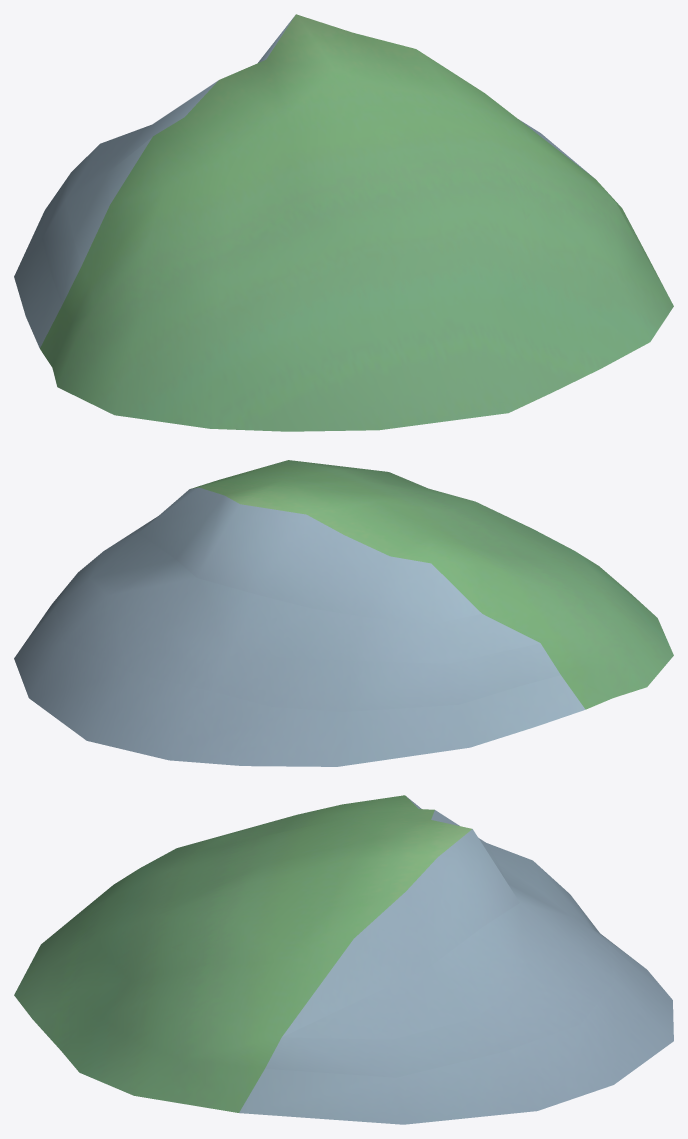
Rendered from GrassMound.fbx.
The picture shows the model from 3 angles, top to bottom: view 1: azimuth 30°, elevation 25°; view 2: azimuth 150°, elevation 25°; view 3: azimuth 270°, elevation 25°; orthographic projection. The views are drawn at different scales.
Parts seen in each view (by area): view 1: GrassMound; view 2: GrassMound; view 3: GrassMound.
Boxes of the visible parts, x1=… form: GrassMound: x1=14, y1=14, x2=673, y2=431; GrassMound: x1=14, y1=460, x2=673, y2=766; GrassMound: x1=14, y1=795, x2=673, y2=1124.
Size of the model in its own units: 34.7 by 11.37 by 36.29.
Materials: 1 (1 with a texture image).
